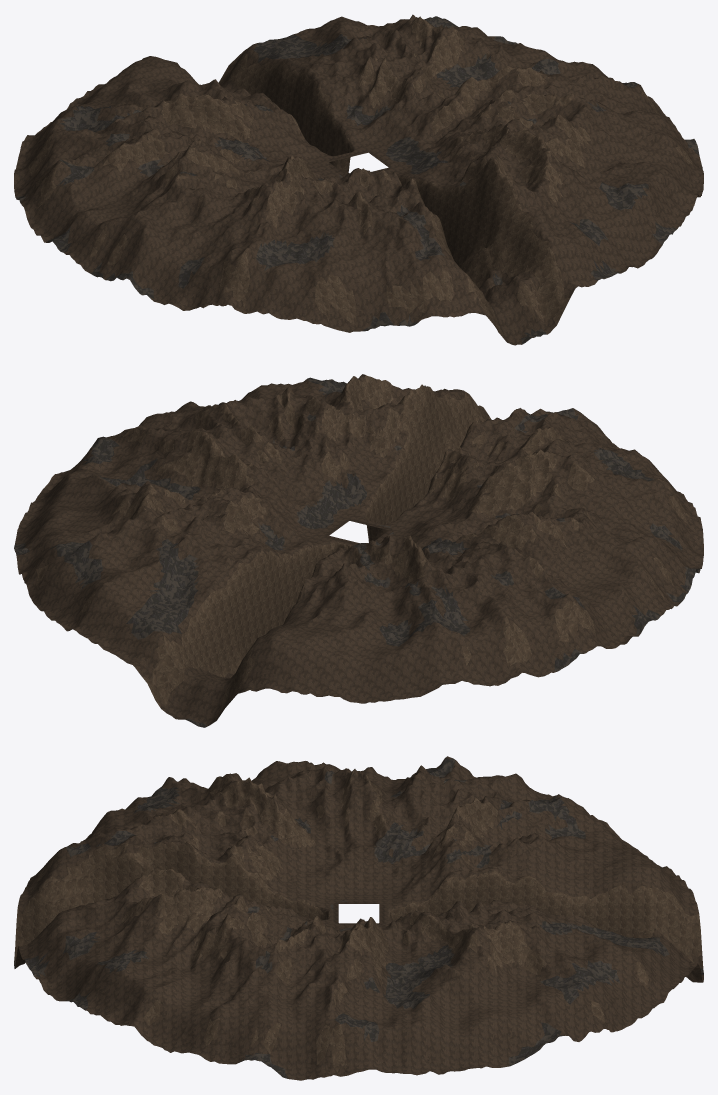
File: backdrop_near_rect_weald_dead.glb
3 renders of one model, top to bottom at view 1: azimuth 30°, elevation 25°; view 2: azimuth 150°, elevation 25°; view 3: azimuth 270°, elevation 25°, orthographic.
Parts seen in each view (by area): view 1: near_land_S, near_land_W, near_land_E, near_land_N; view 2: near_land_N, near_land_W, near_land_E, near_land_S; view 3: near_land_E, near_land_S, near_land_N, near_land_W.
Part boxes in pixels (box(x1,y1,x2,y2)): near_land_S: box(269, 117, 691, 345); near_land_W: box(14, 93, 342, 314); near_land_E: box(361, 16, 703, 210); near_land_N: box(25, 14, 439, 174); near_land_N: box(26, 499, 448, 727); near_land_W: box(379, 449, 703, 686); near_land_E: box(14, 383, 359, 583); near_land_S: box(277, 374, 687, 541); near_land_E: box(116, 898, 603, 1080); near_land_S: box(14, 798, 333, 1024); near_land_N: box(382, 799, 703, 1032); near_land_W: box(136, 756, 601, 906).
Bounding box in the file's own units: 576 × 168 × 576.
Materials: 3 (3 with a texture image).
